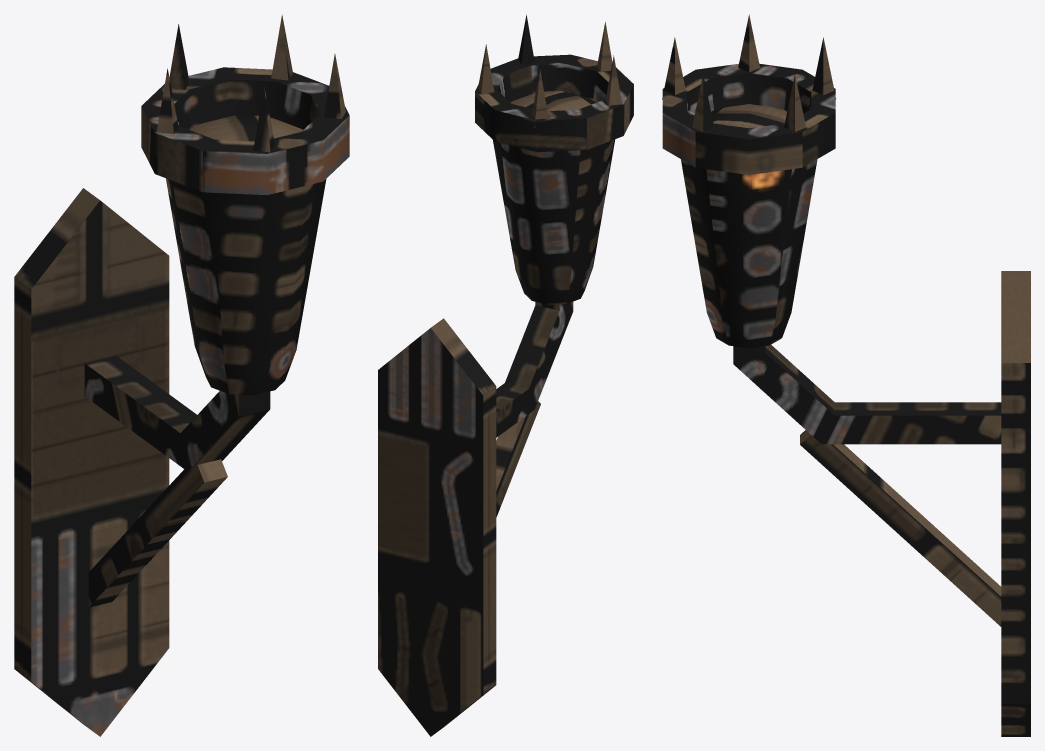
File: torche_murale.fbx
3 views of the same model, side by side, from view 1: azimuth 30°, elevation 25°; view 2: azimuth 150°, elevation 25°; view 3: azimuth 270°, elevation 25° (orthographic). The views are drawn at different scales.
Visible parts, largest first — view 1: torche_murale; view 2: torche_murale; view 3: torche_murale.
Boxes of the visible parts, x1,y1,x2,y2 form: torche_murale: [14, 14, 349, 736]; torche_murale: [378, 14, 633, 736]; torche_murale: [662, 14, 1030, 736].
Bounding box in the file's own units: 0.184 × 0.77 × 0.3731.
Materials: 1 (1 with a texture image).
